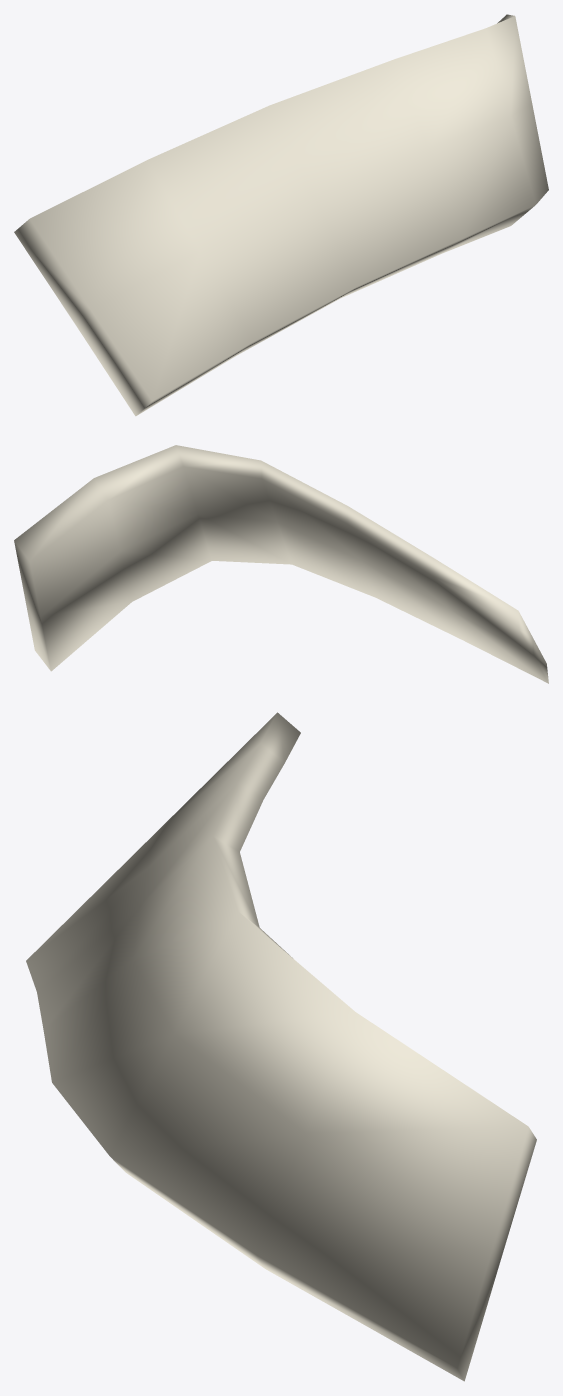
The picture shows the model from 3 angles, top to bottom: view 1: azimuth 30°, elevation 25°; view 2: azimuth 150°, elevation 25°; view 3: azimuth 270°, elevation 25°; orthographic projection. The views are drawn at different scales.
Parts seen in each view (by area): view 1: ZA_0663d65edb9c739e; view 2: ZA_0663d65edb9c739e; view 3: ZA_0663d65edb9c739e.
Part boxes in pixels (x1=…): ZA_0663d65edb9c739e: x1=14, y1=14, x2=548, y2=416; ZA_0663d65edb9c739e: x1=14, y1=445, x2=548, y2=683; ZA_0663d65edb9c739e: x1=26, y1=712, x2=536, y2=1381.
Bounding box in the file's own units: 0.0188 × 0.00808 × 0.00927.
